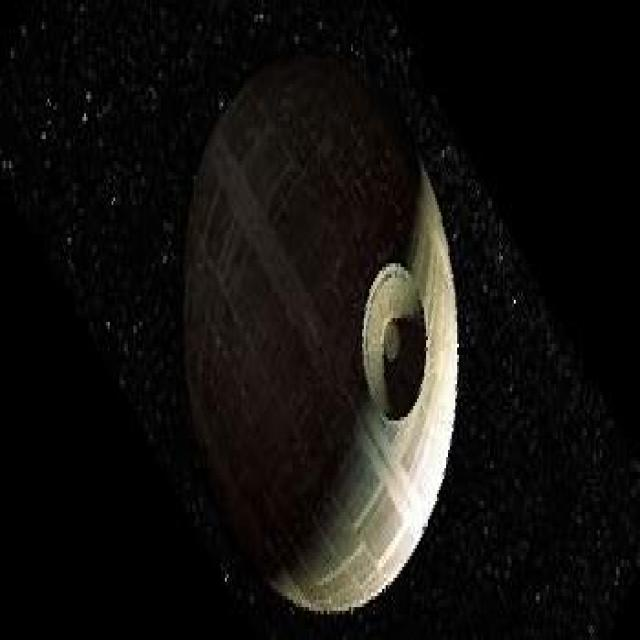Death Star: (175, 44, 462, 618)
